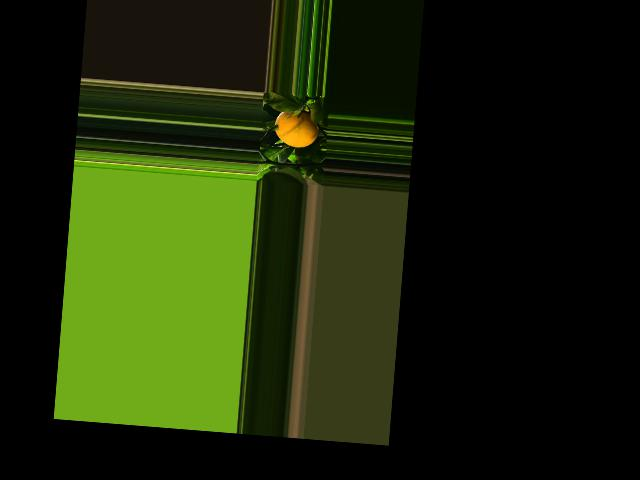lemon: (269, 103, 319, 151)
